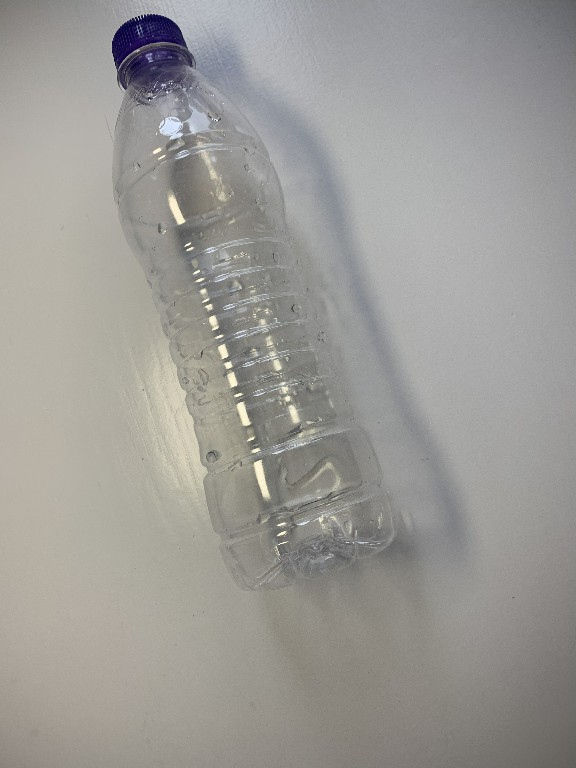bottle: (98, 9, 405, 598)
